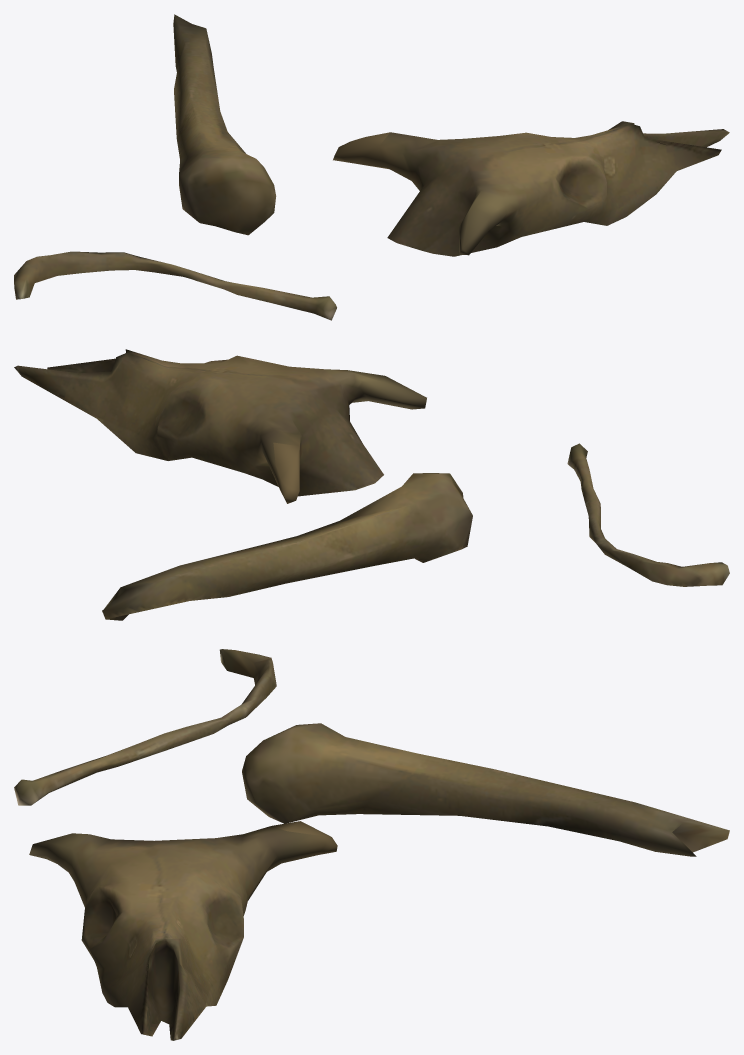
File: badside_bones004.fbx
The picture shows the model from 3 angles, top to bottom: view 1: azimuth 30°, elevation 25°; view 2: azimuth 150°, elevation 25°; view 3: azimuth 270°, elevation 25°; orthographic projection. The views are drawn at different scales.
Parts seen in each view (by area): view 1: badside_bones004; view 2: badside_bones004; view 3: badside_bones004.
Part boxes in pixels (left/top/right/bottom): badside_bones004: left=14, top=14, right=729, bottom=320; badside_bones004: left=14, top=349, right=729, bottom=620; badside_bones004: left=14, top=649, right=729, bottom=1040.
Size of the model in its own units: 15835 by 1867 by 12072.
